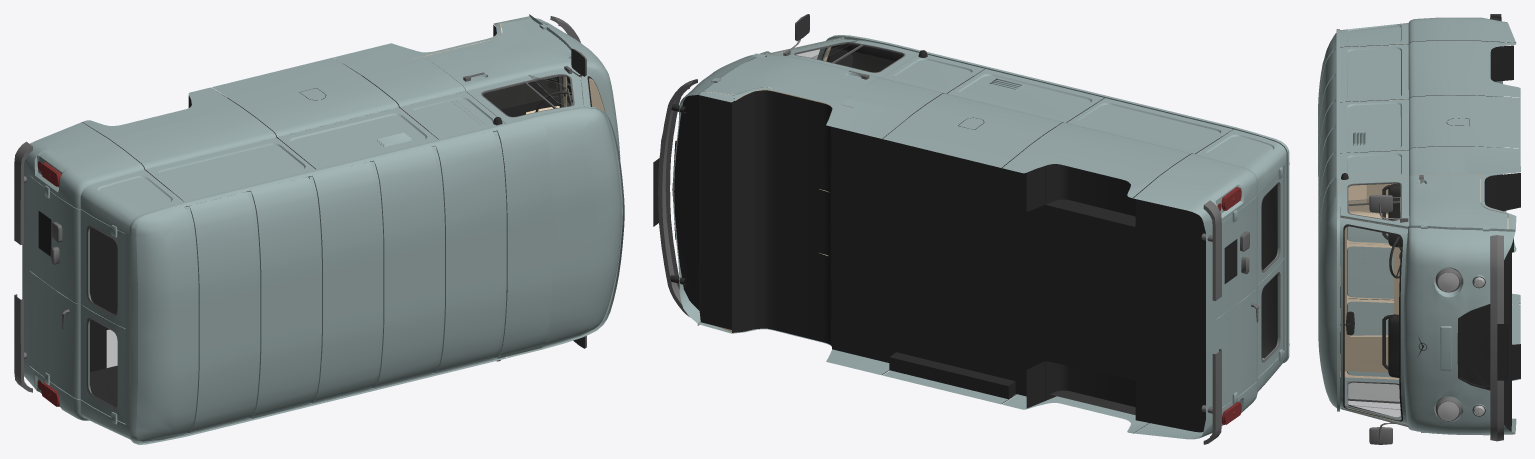
File: uazbus_chassis.obj
The picture shows the model from 3 angles, left to right: view 1: azimuth 30°, elevation 25°; view 2: azimuth 150°, elevation 25°; view 3: azimuth 270°, elevation 25°; orthographic projection. The views are drawn at different scales.
Parts seen in each view (by area): view 1: uazbus; view 2: uazbus; view 3: uazbus.
Boxes of the visible parts, <box> form: uazbus: <box>14,14,624,444</box>; uazbus: <box>653,14,1289,444</box>; uazbus: <box>1318,14,1520,444</box>.
Bounding box in the file's own units: 4.5 × 2.2 × 1.62.
